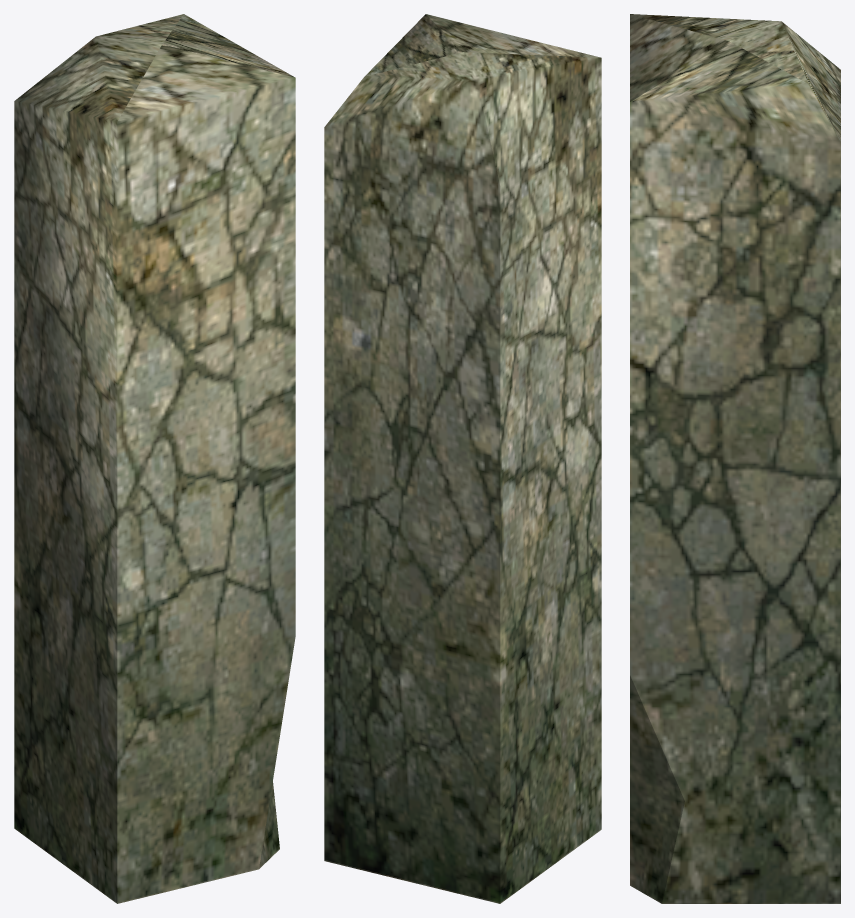
Rendered from thm_nboo_gungan_pillar_damaged_s01_l1.fbx.
3 renders of one model, left to right at view 1: azimuth 30°, elevation 25°; view 2: azimuth 150°, elevation 25°; view 3: azimuth 270°, elevation 25°, orthographic. The views are drawn at different scales.
Parts seen in each view (by area): view 1: mesh_node; view 2: mesh_node; view 3: mesh_node.
Boxes of the visible parts, x1,y1,x2,y2 form: mesh_node: (14, 14, 295, 903); mesh_node: (324, 14, 601, 903); mesh_node: (630, 14, 840, 903).
Size of the model in its own units: 1 by 4.29 by 1.
